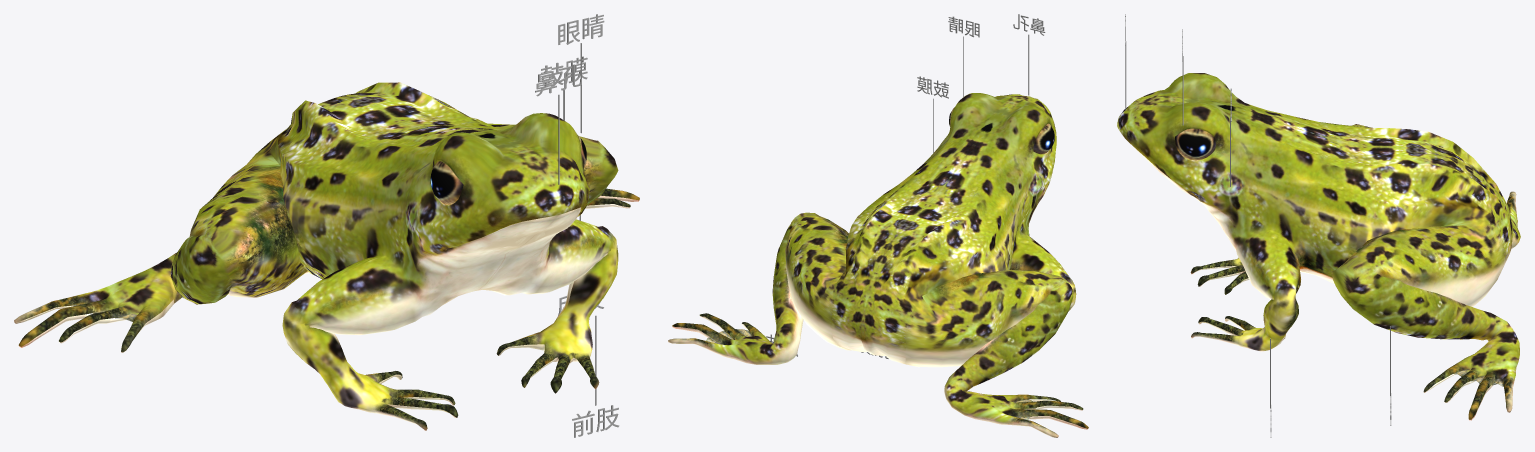
3 renders of one model, left to right at view 1: azimuth 30°, elevation 25°; view 2: azimuth 150°, elevation 25°; view 3: azimuth 270°, elevation 25°, orthographic. The views are drawn at different scales.
Parts seen in each view (by area): view 1: body, eye, f2, f1; view 2: body, eye; view 3: body, eye.
Part boxes in pixels (left/top/right/bottom): body: left=14, top=82, right=639, bottom=430; eye: left=430, top=135, right=586, bottom=205; f2: left=558, top=14, right=604, bottom=44; f1: left=535, top=64, right=581, bottom=96; body: left=668, top=93, right=1088, bottom=437; eye: left=949, top=107, right=1054, bottom=154; body: left=1117, top=73, right=1520, bottom=420; eye: left=1175, top=128, right=1216, bottom=160.
Bounding box in the file's own units: 98.29 × 72.03 × 71.97.
Materials: 2 (1 with a texture image).
